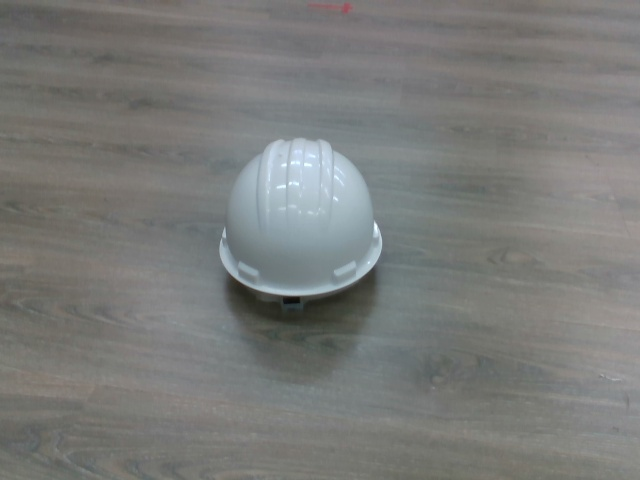helmet: (217, 133, 391, 310)
